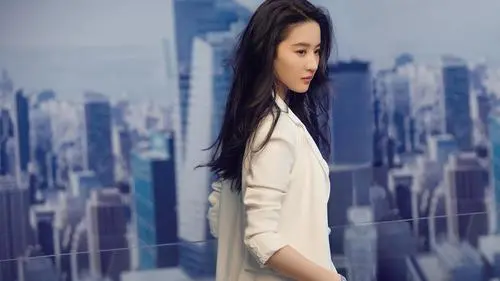withoutmask: (243, 2, 341, 107)
